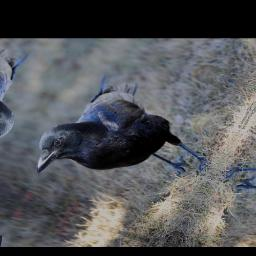Crow: (22, 66, 241, 213)
